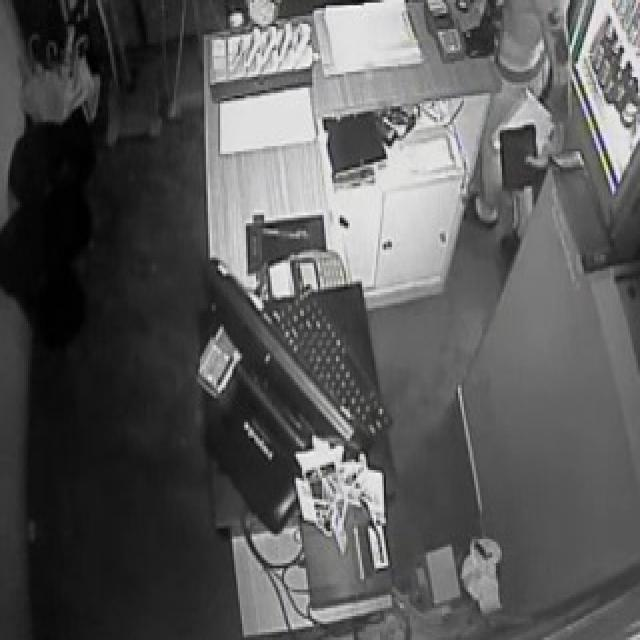thief: (486, 0, 571, 137)
